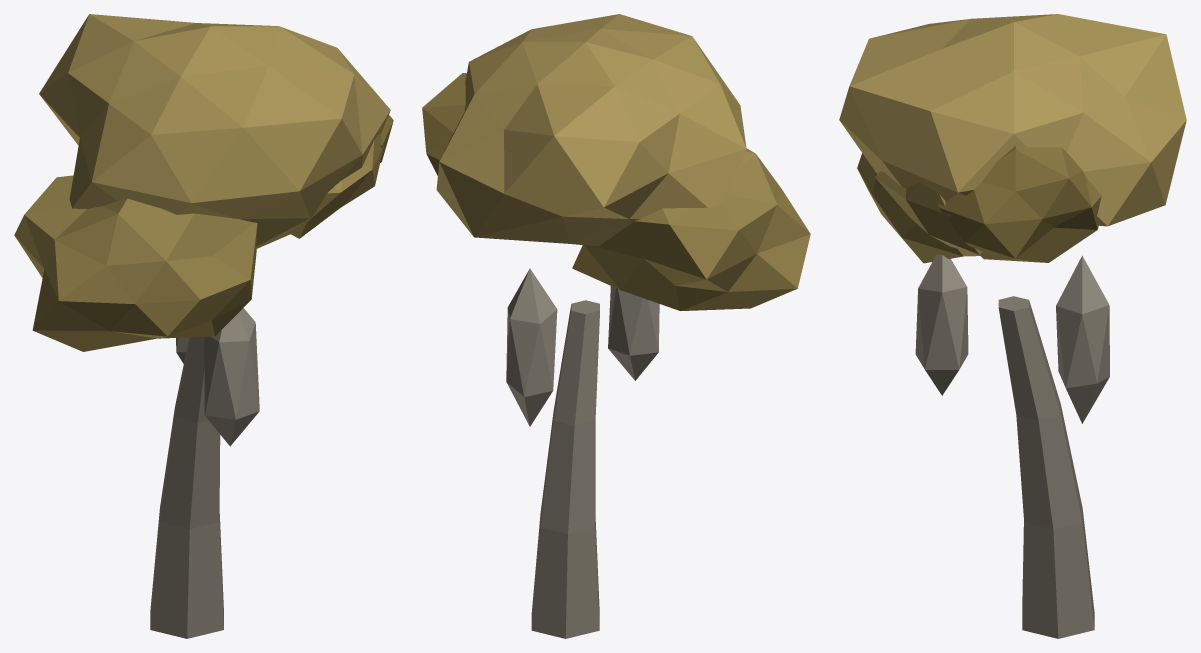
File: tree_emberbirch.glb
3 renders of one model, left to right at view 1: azimuth 30°, elevation 25°; view 2: azimuth 150°, elevation 25°; view 3: azimuth 270°, elevation 25°, orthographic. The views are drawn at different scales.
Visible parts, largest first — view 1: tree_emberbirch; view 2: tree_emberbirch; view 3: tree_emberbirch.
Boxes of the visible parts, box(x1,y1,x2,y2) form: tree_emberbirch: box(14, 14, 393, 638); tree_emberbirch: box(422, 14, 810, 638); tree_emberbirch: box(839, 14, 1186, 638).
Size of the model in its own units: 2.62 by 4.12 by 2.16.
1 material, 1 textured.
